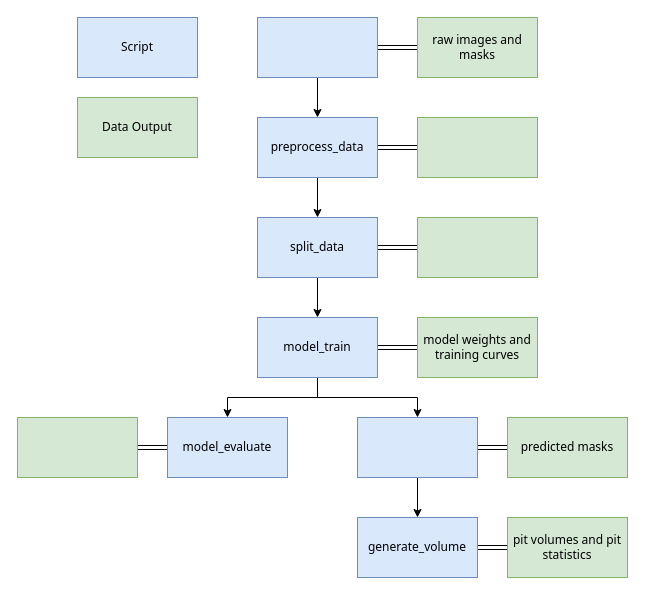
Some shapes in this 645 by 595 pixel diagram are drawn without their labels. Here are the shapes that lost their labels. From the top down, the centre of each, then its label:
At point 317,47: "download_data".
At point 477,147: "preprocessed images and masks".
At point 477,247: "train-val-test labels for images".
At point 77,447: "validation and test metrics".
At point 417,447: "model_predict".
